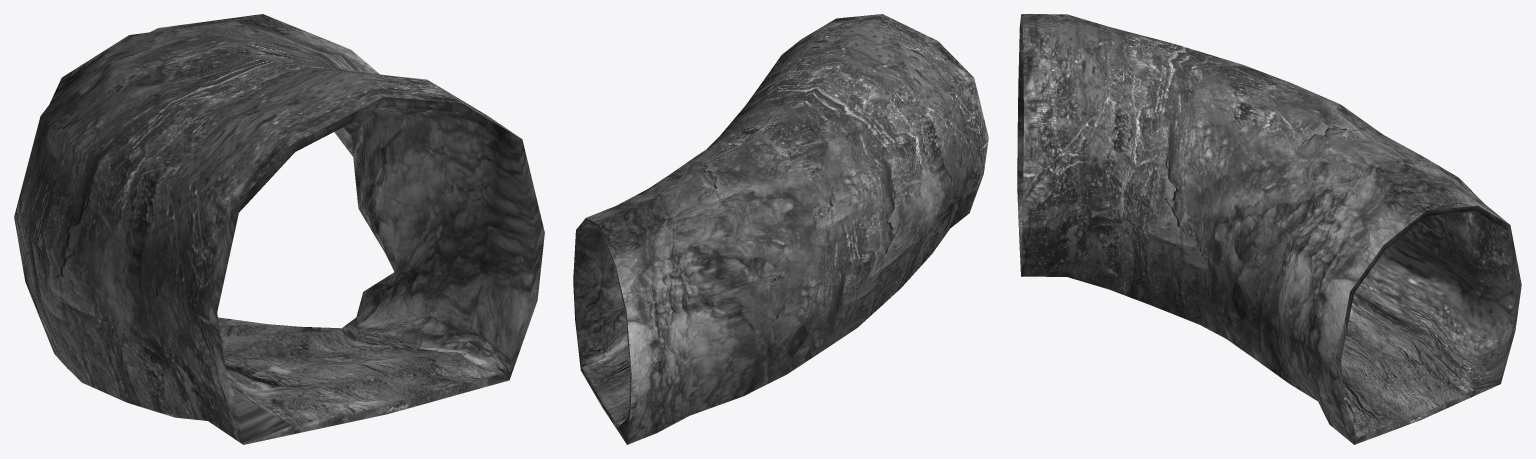
Rendered from caveramp3_curve1.fbx.
3 views of the same model, side by side, from view 1: azimuth 30°, elevation 25°; view 2: azimuth 150°, elevation 25°; view 3: azimuth 270°, elevation 25° (orthographic). The views are drawn at different scales.
Visible parts, largest first — view 1: Group14_cave7; view 2: Group14_cave7; view 3: Group14_cave7.
Part boxes in pixels (x1,y1,x2,y2): Group14_cave7: (14, 14, 544, 444); Group14_cave7: (573, 14, 988, 444); Group14_cave7: (1017, 14, 1521, 444).
Size of the model in its own units: 143 by 144 by 197.
Materials: 1 (1 with a texture image).
